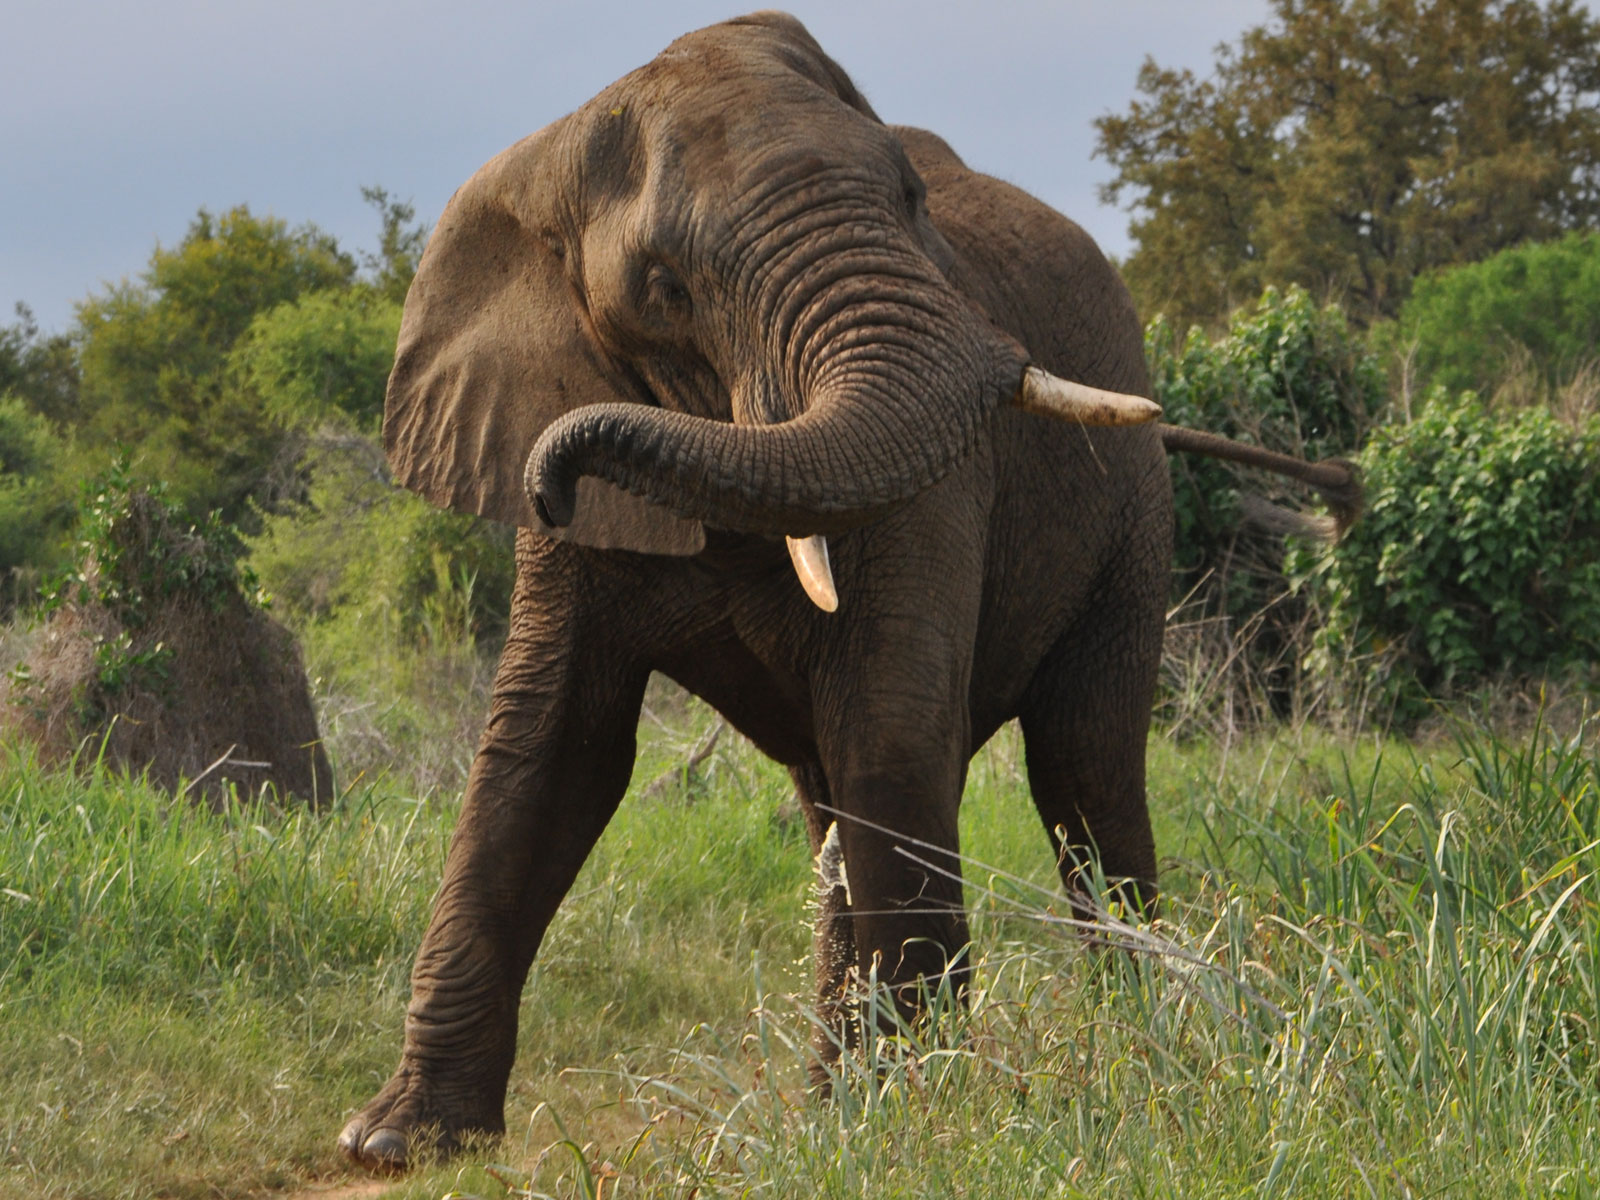elephant: (330, 13, 1175, 1172)
